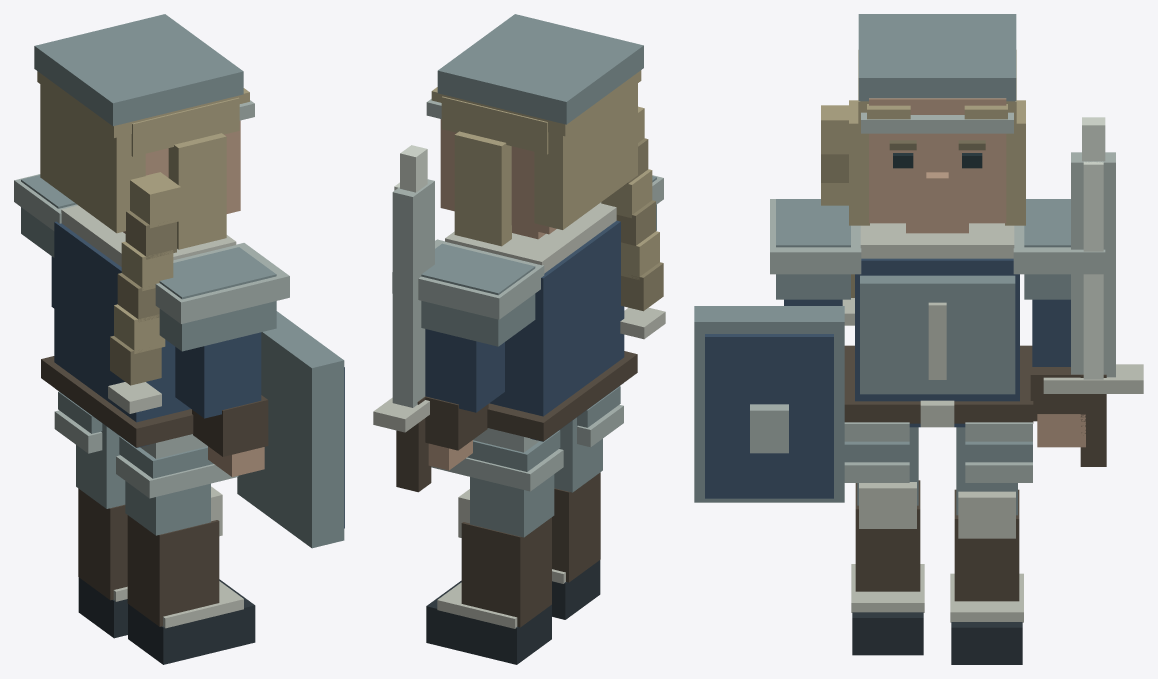
Rendered from enemy-humanoid-sword-female.glb.
3 renders of one model, left to right at view 1: azimuth 30°, elevation 25°; view 2: azimuth 150°, elevation 25°; view 3: azimuth 270°, elevation 25°, orthographic.
Parts seen in each view (by area): view 1: Boots, Shield, Helmet, Hair, Torso, Braid, Shoulders, Tassets, Sleeves, Legs, SideLocks, Pauldrons (+7 smaller); view 2: Boots, Torso, Helmet, Hair, SwordBlade, Shoulders, Tassets, Legs, SideLocks, Braid, Sleeves, Belt (+10 smaller); view 3: ShieldRim, Breastplate, Helmet, Boots, Head, Shoulders, Shield, Tassets, Pauldrons, Kneeguards, SwordBlade, Torso (+19 smaller).
Boxes of the visible parts, x1,y1,x2,y2 form: Boots: [78, 488, 255, 664]; Shield: [237, 311, 344, 548]; Helmet: [34, 14, 254, 126]; Hair: [37, 71, 239, 233]; Torso: [54, 221, 190, 447]; Braid: [110, 172, 180, 385]; Shoulders: [21, 175, 276, 351]; Tassets: [54, 391, 238, 498]; Sleeves: [51, 256, 261, 418]; Legs: [76, 423, 210, 535]; SideLocks: [168, 133, 226, 249]; Pauldrons: [14, 174, 289, 323]; Boots: [426, 472, 600, 664]; Torso: [489, 220, 624, 441]; Helmet: [426, 14, 643, 124]; Hair: [441, 70, 641, 229]; SwordBlade: [392, 179, 434, 407]; Shoulders: [421, 176, 656, 346]; Tassets: [431, 386, 623, 491]; Legs: [470, 417, 602, 537]; SideLocks: [454, 131, 511, 246]; Braid: [601, 106, 663, 311]; Sleeves: [425, 329, 504, 412]; Belt: [487, 351, 637, 441]; ShieldRim: [705, 334, 833, 498]; Breastplate: [860, 275, 1015, 394]; Helmet: [858, 14, 1016, 133]; Boots: [852, 480, 1022, 664]; Head: [869, 98, 1006, 223]; Shoulders: [776, 199, 1070, 299]; Shield: [694, 306, 844, 502]; Tassets: [844, 422, 1032, 482]; Pauldrons: [770, 199, 1105, 274]; Kneeguards: [859, 482, 1015, 538]; SwordBlade: [1071, 152, 1115, 377]; Torso: [855, 258, 1019, 427].
Size of the model in its own units: 2.64 by 8.57 by 5.98.
